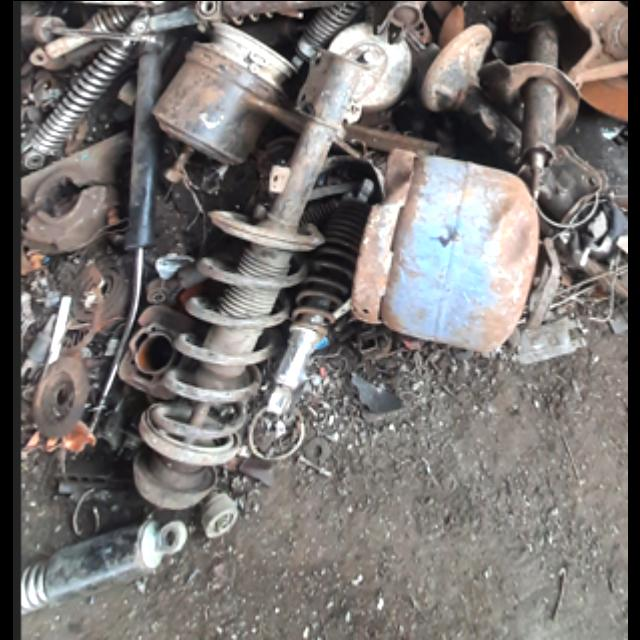Shock Absorber: (13, 30, 146, 172), (17, 516, 201, 617), (21, 6, 146, 73), (284, 3, 365, 62)
